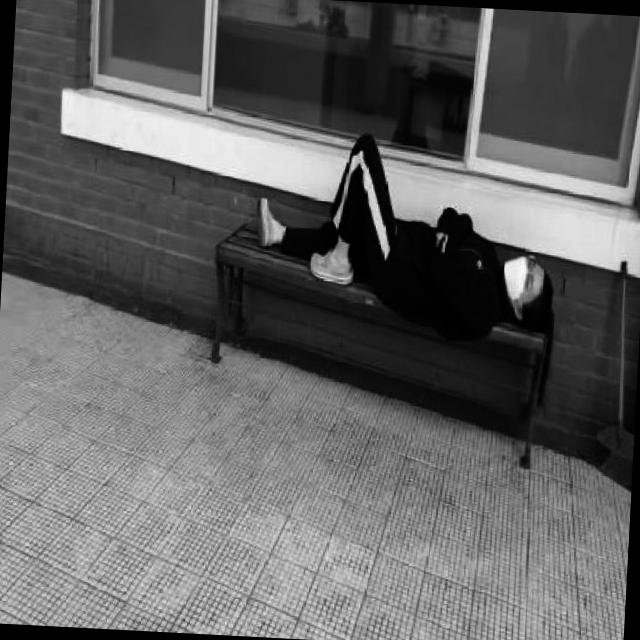person: (249, 129, 562, 348)
